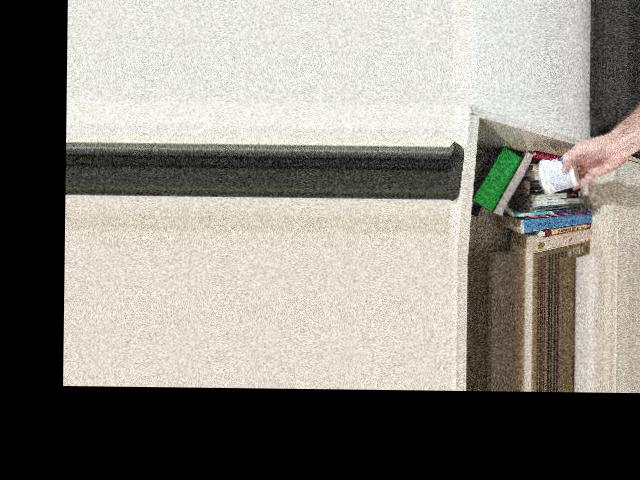cotage: (535, 152, 589, 196)
